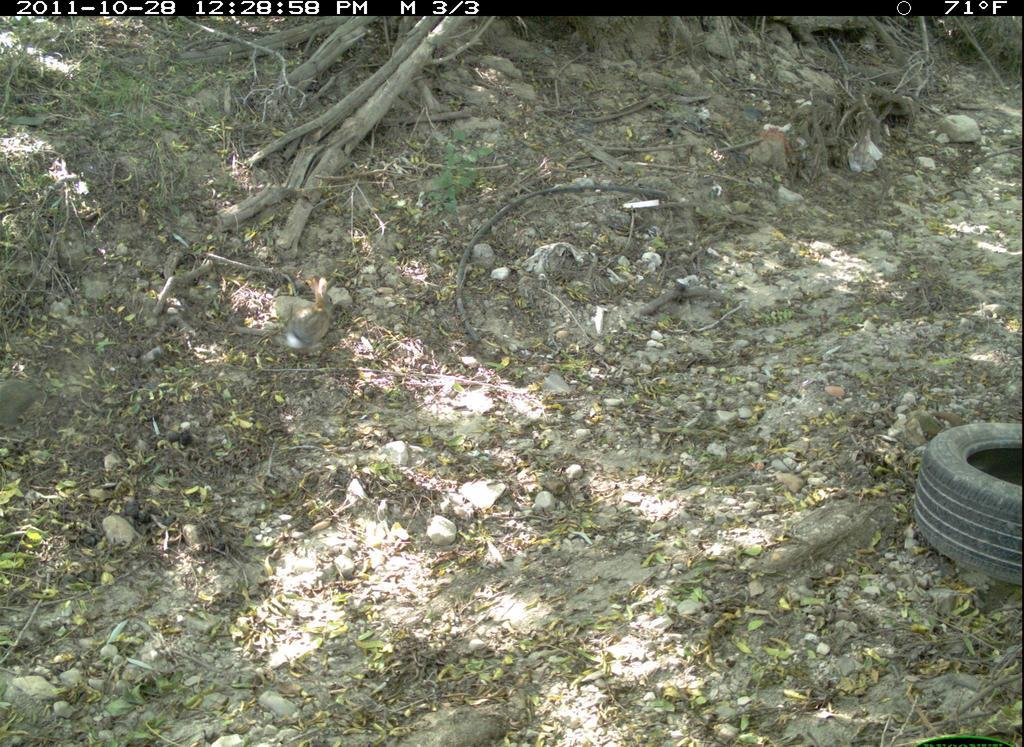rabbit: (277, 274, 338, 354)
